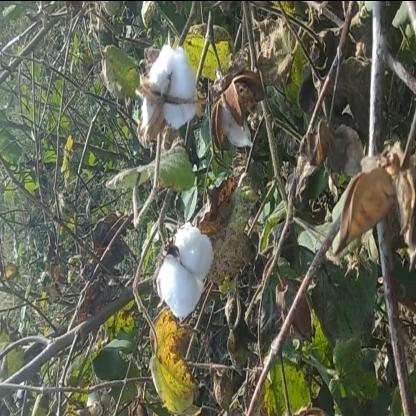cotton_ready: (134, 34, 212, 160), (149, 207, 217, 337)
